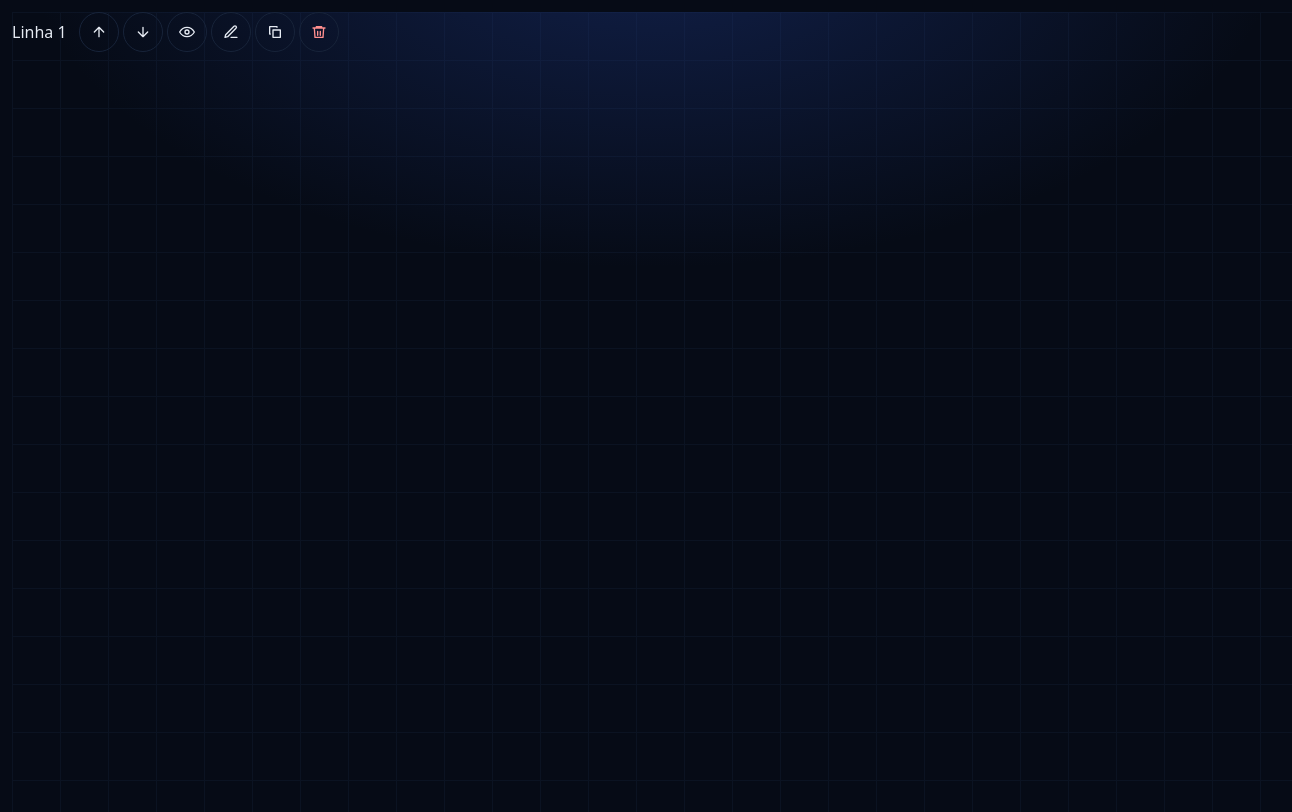
Test: RowActions › Desfazer traz a linha de volta e nada é apagado
Click the button named "Excluir" at {"x": 319, "y": 32}, box [299,12,339,52]
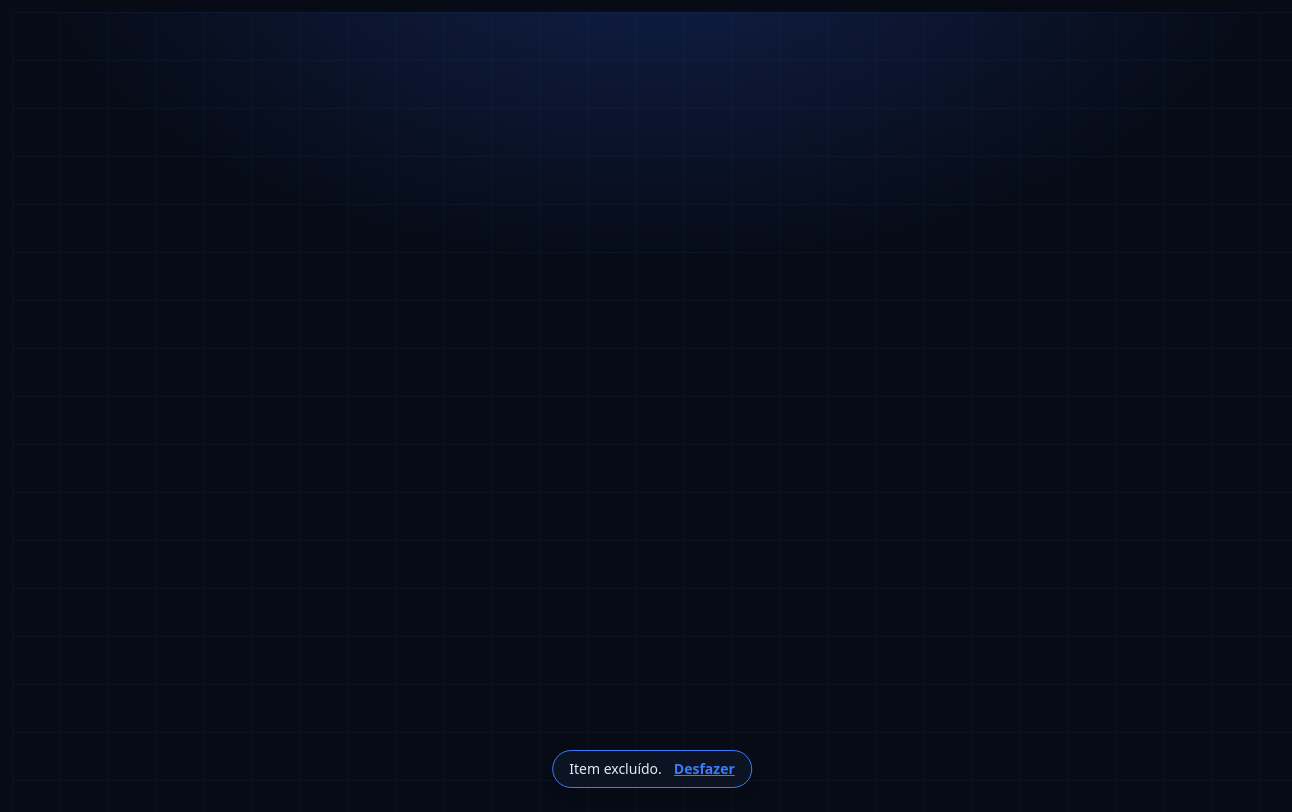
Click the button "Desfazer" at {"x": 704, "y": 769}, box [674,759,735,779]
Wait 10000 ms
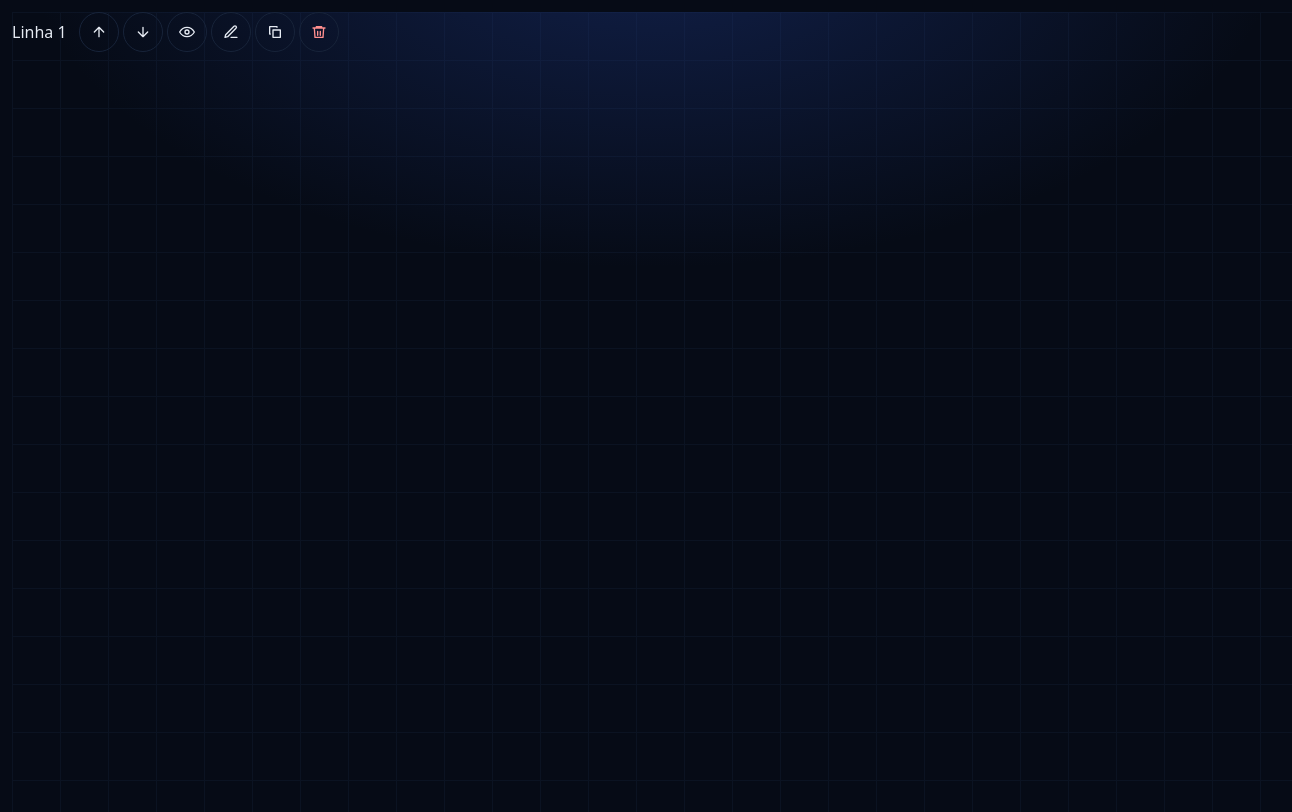
Now the text "Linha 1" is shown, box [12,20,67,44]
